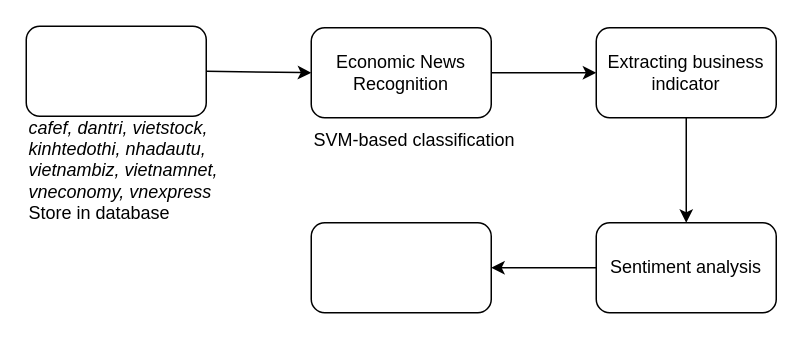
This 803x339 diagram has some shape labels left out. The centre of each missing label's shape, as x and y in pixels:
Data scraping: pixel 115 70
Generating report: pixel 400 267
